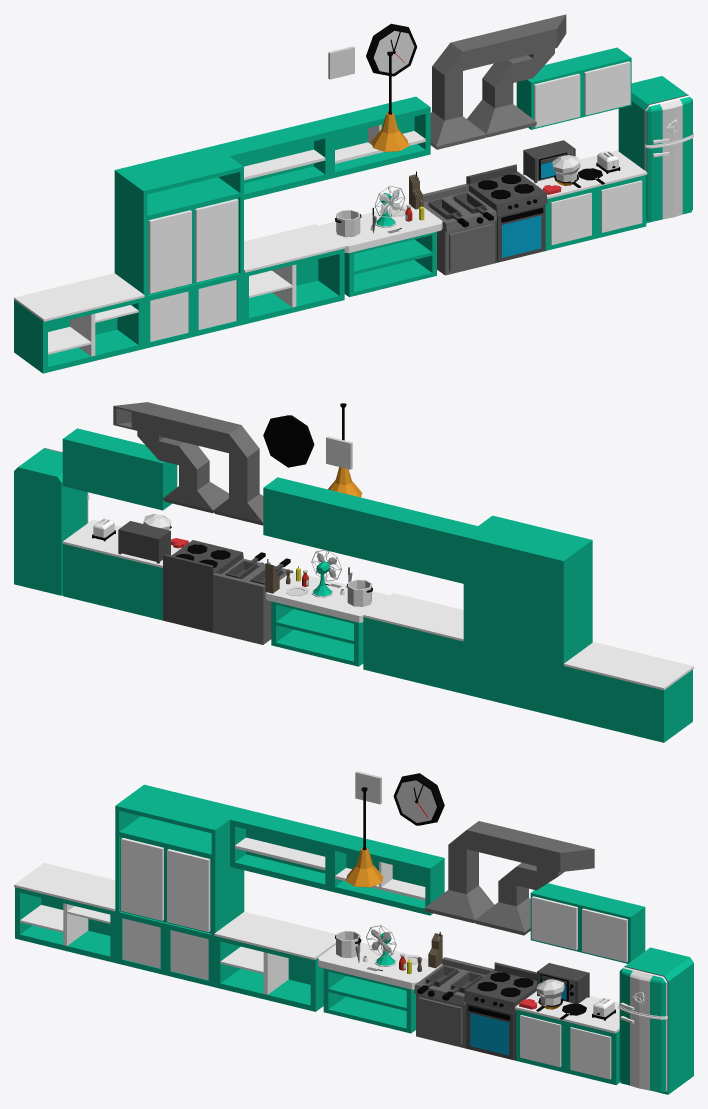
Rendered from ChimneysOneDuctVer.fbx.
3 views of the same model, one above another, from view 1: azimuth 30°, elevation 25°; view 2: azimuth 150°, elevation 25°; view 3: azimuth 330°, elevation 25° (orthographic).
Visible parts, largest first — view 1: Cube.001, chimney, counter3, fridge, counter2, counter, cabinet.001, island, cabinet2, cabinet3, stove, Fryer (+6 smaller); view 2: Cube.001, counter3, chimney, counter2, fridge, counter, cabinet.001, island, cabinet2, cabinet3, stove, Fryer (+5 smaller); view 3: Cube.001, fridge, chimney, counter2, counter3, cabinet.001, counter, island, cabinet2, cabinet3, stove, Fryer (+6 smaller).
Boxes of the visible parts, x1,y1,x2,y2 form: Cube.001: (114,145,243,348); chimney: (430,14,566,149); counter3: (14,273,144,373); fridge: (618,76,693,223); counter2: (244,224,345,324); counter: (521,150,647,250); cabinet.001: (516,47,631,129); island: (319,203,442,297); cabinet2: (215,121,329,199); cabinet3: (316,96,430,178); stove: (466,164,547,263); Fryer: (423,183,496,275); Cube.001: (463,515,592,718); counter3: (563,642,693,742); chimney: (113,402,263,525); counter2: (363,593,463,693); fridge: (14,448,89,595); counter: (62,519,181,620); cabinet.001: (62,428,177,510); island: (265,572,388,666); cabinet2: (363,502,477,583); cabinet3: (263,477,377,559); stove: (163,540,243,632); Fryer: (213,552,293,644); Cube.001: (115,784,244,987); fridge: (618,947,693,1094); chimney: (424,821,594,935); counter2: (214,911,336,1011); counter3: (14,863,115,962); cabinet.001: (530,883,645,963); counter: (515,991,620,1085); island: (318,942,442,1033); cabinet2: (230,809,344,890); cabinet3: (330,833,444,915); stove: (464,962,536,1060); Fryer: (414,957,493,1048).
Bounding box in the file's own units: 2597 × 900 × 261.
